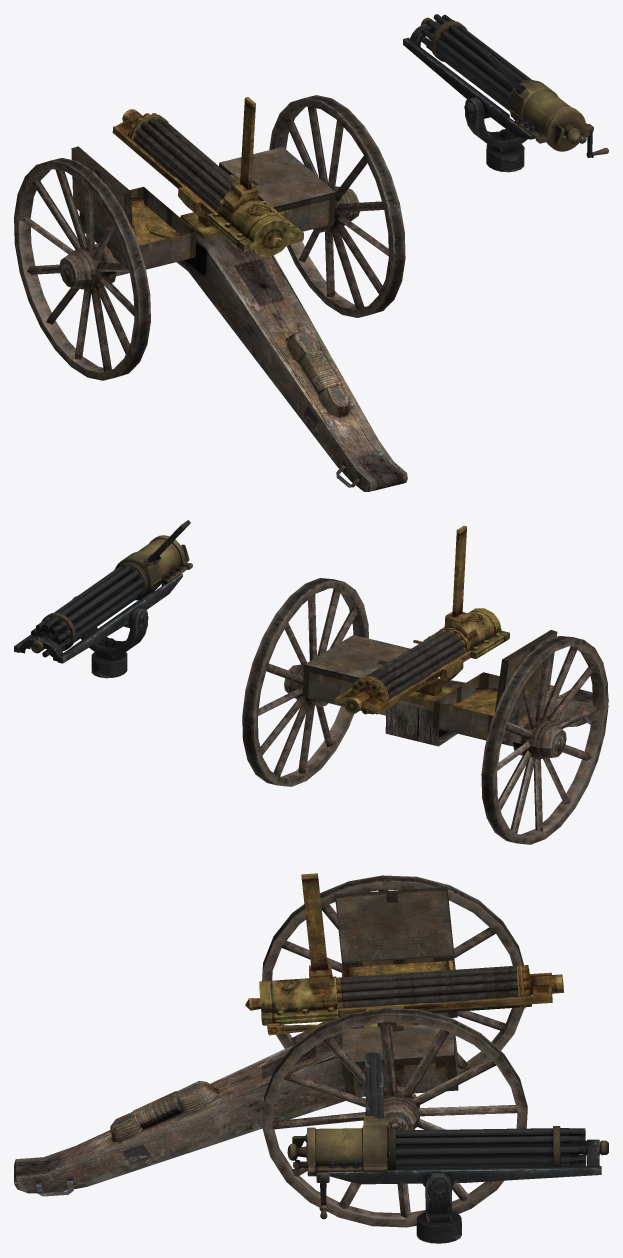
The model's file is jurassic_the_hunted_gatling_gun_propviewmodel.glb.
The picture shows the model from 3 angles, top to bottom: view 1: azimuth 30°, elevation 25°; view 2: azimuth 150°, elevation 25°; view 3: azimuth 270°, elevation 25°; orthographic projection. The views are drawn at different scales.
Visible parts, largest first — view 1: Object_12, Object_14, Object_8, Object_10, Object_6; view 2: Object_12, Object_14, Object_10, Object_8, Object_6; view 3: Object_12, Object_14, Object_8, Object_10, Object_6, Object_4.
Boxes of the visible parts, x1,y1,x2,y2 form: Object_12: [14, 95, 407, 491]; Object_14: [71, 97, 335, 269]; Object_8: [403, 17, 608, 157]; Object_10: [421, 14, 534, 111]; Object_6: [465, 97, 527, 172]; Object_12: [242, 578, 608, 844]; Object_14: [302, 525, 557, 740]; Object_10: [31, 561, 148, 657]; Object_8: [14, 535, 192, 663]; Object_6: [80, 608, 147, 678]; Object_12: [14, 875, 527, 1227]; Object_14: [245, 873, 563, 1096]; Object_8: [287, 1116, 608, 1219]; Object_10: [387, 1126, 601, 1168]; Object_6: [416, 1173, 461, 1243]; Object_4: [365, 1052, 383, 1118].
Size of the model in its own units: 2.84 by 1.56 by 2.71.
Materials: 6 (6 with a texture image).
